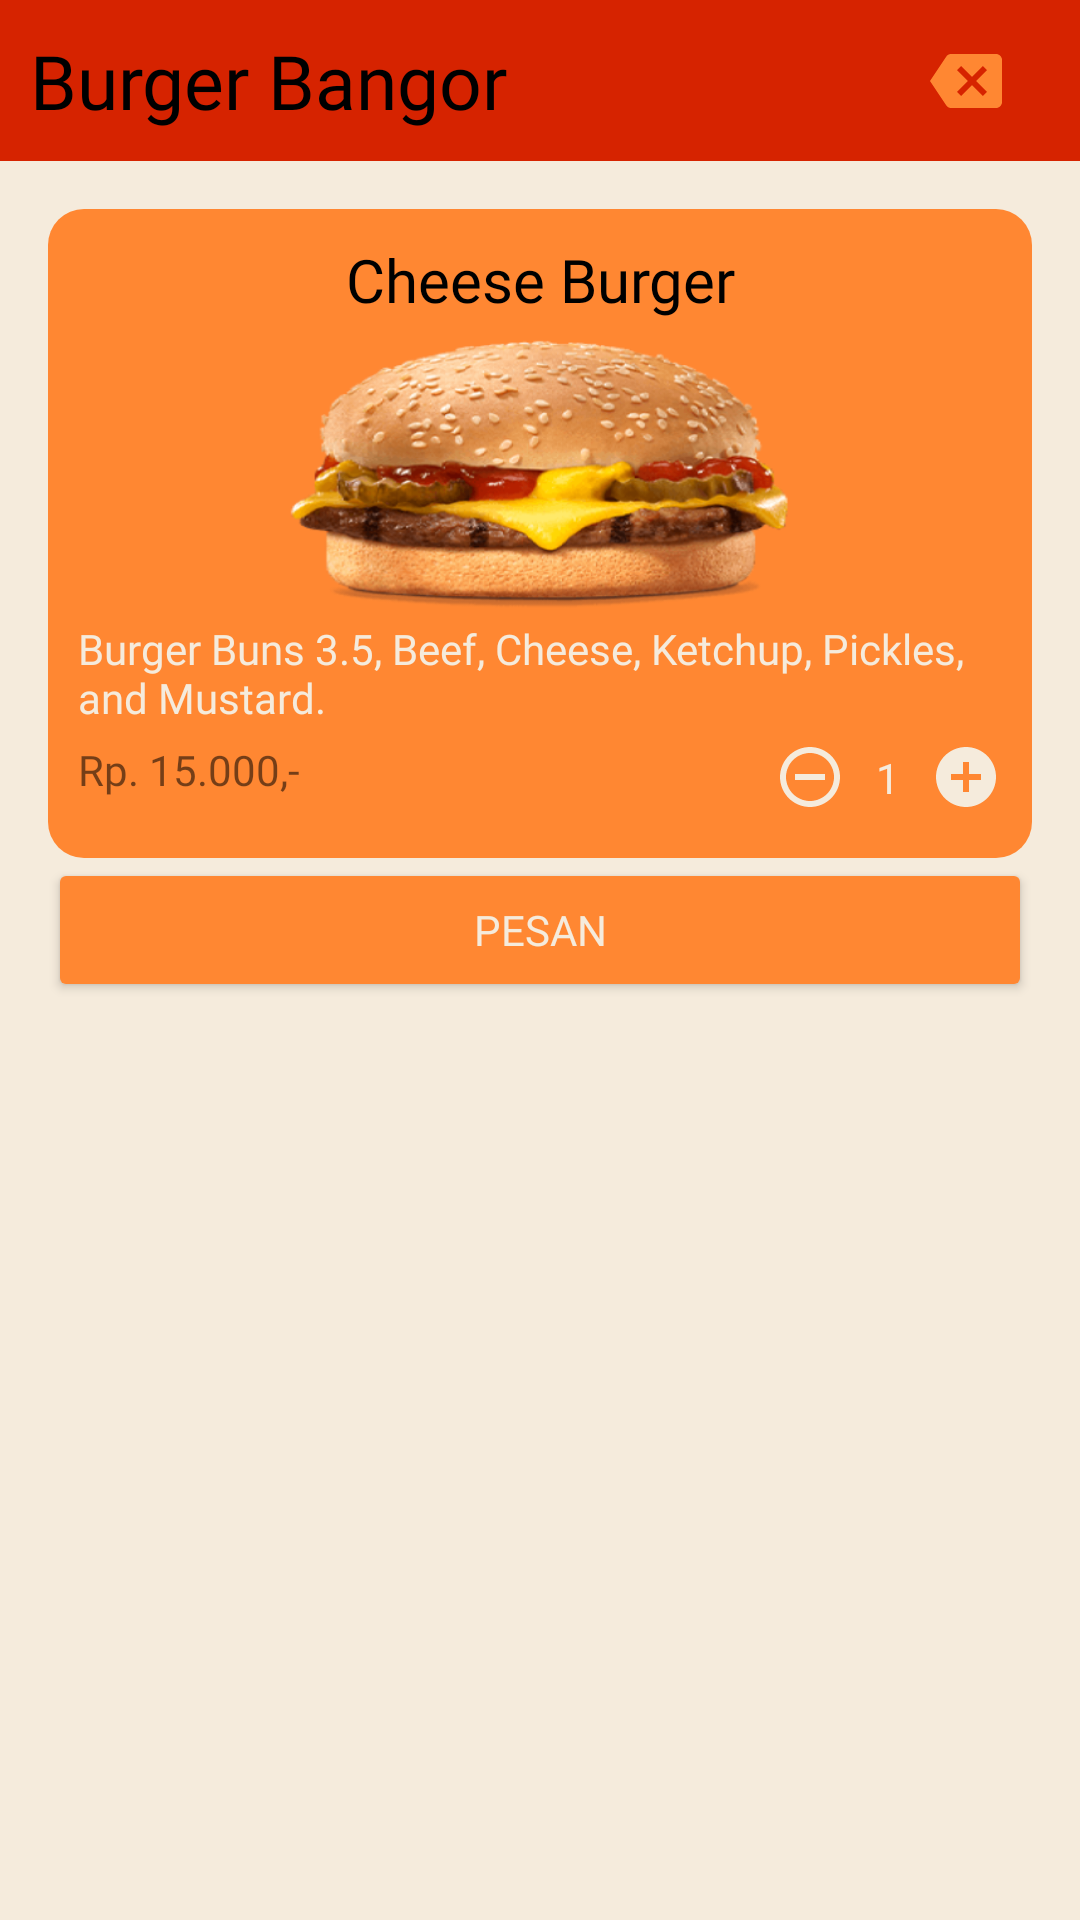

Icon click points for this 1080px x 1920px phone screenshot, format (x=x, y=y):
add circle: (x=966, y=777)
backspace: (x=966, y=81)
remove circle: (x=810, y=777)
